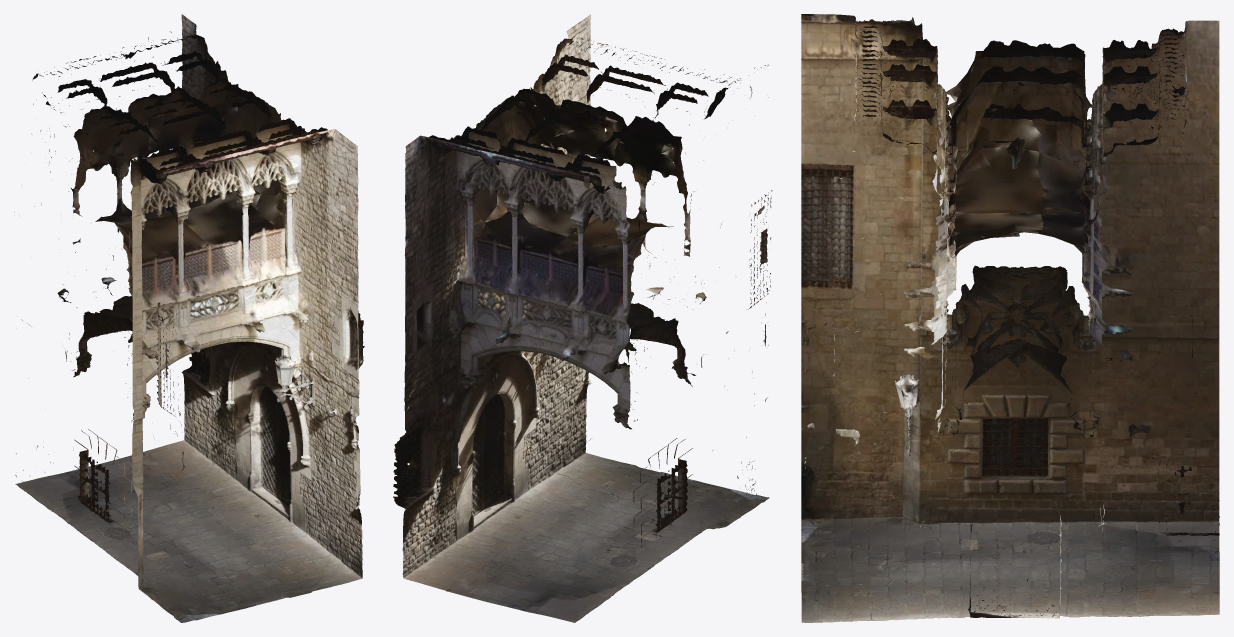
Rendered from bishop_s_bridge_barcelona_spain.glb.
3 renders of one model, left to right at view 1: azimuth 30°, elevation 25°; view 2: azimuth 150°, elevation 25°; view 3: azimuth 270°, elevation 25°, orthographic. The views are drawn at different scales.
Parts seen in each view (by area): view 1: Gothic_bridge; view 2: Gothic_bridge; view 3: Gothic_bridge.
Part boxes in pixels (x1,y1,x2,y2): Gothic_bridge: [14, 14, 364, 622]; Gothic_bridge: [393, 14, 772, 622]; Gothic_bridge: [801, 14, 1219, 622].
Bounding box in the file's own units: 5.36 × 11.1 × 8.29.
1 material, 1 textured.
